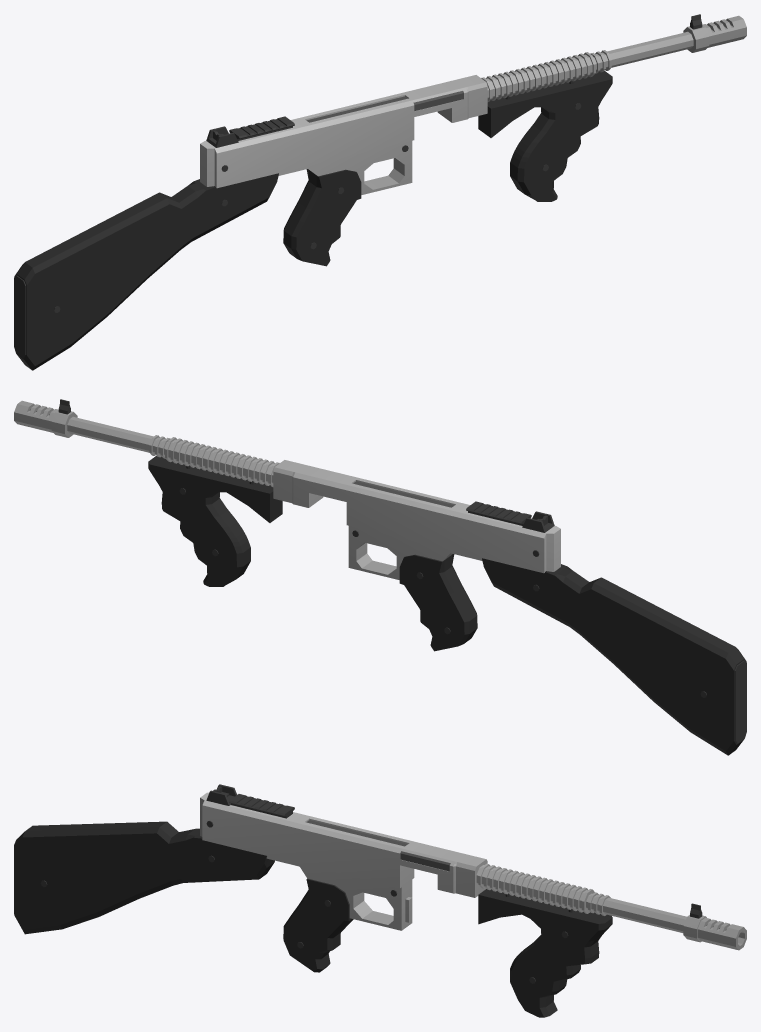
The model's file is LMG4_05.fbx.
3 renders of one model, top to bottom at view 1: azimuth 30°, elevation 25°; view 2: azimuth 150°, elevation 25°; view 3: azimuth 330°, elevation 25°, orthographic.
Parts seen in each view (by area): view 1: LMG4_05; view 2: LMG4_05; view 3: LMG4_05.
Boxes of the visible parts, left/top/right/bottom form: LMG4_05: left=14, top=14, right=746, bottom=370; LMG4_05: left=14, top=399, right=746, bottom=755; LMG4_05: left=14, top=784, right=746, bottom=1017.
Bounding box in the file's own units: 0.9676 × 0.2429 × 0.036.
